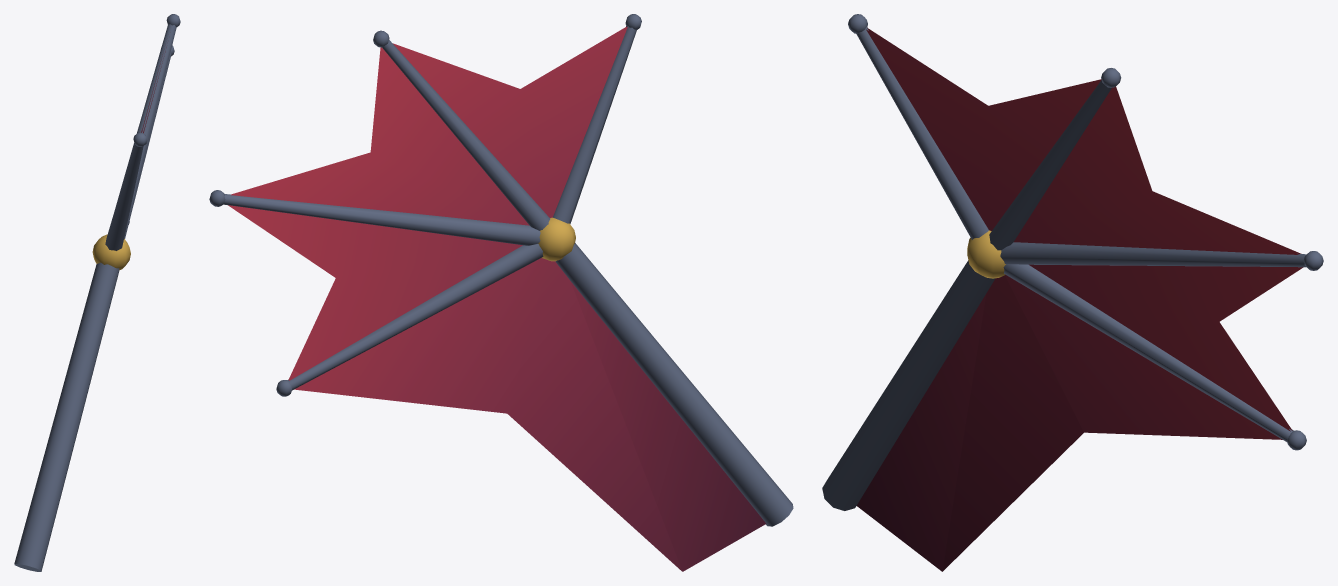
The model's file is boss_wing_px.obj.
The picture shows the model from 3 angles, left to right: view 1: azimuth 30°, elevation 25°; view 2: azimuth 150°, elevation 25°; view 3: azimuth 270°, elevation 25°; orthographic projection. The views are drawn at different scales.
Parts seen in each view (by area): view 1: boss_wing_px; view 2: boss_wing_px; view 3: boss_wing_px.
Boxes of the visible parts, x1,y1,x2,y2 form: boss_wing_px: (14,14,180,571); boss_wing_px: (209,14,793,571); boss_wing_px: (822,14,1323,571).
Size of the model in its own units: 0.6225 by 0.832 by 0.5945.
1 material, 1 textured.
